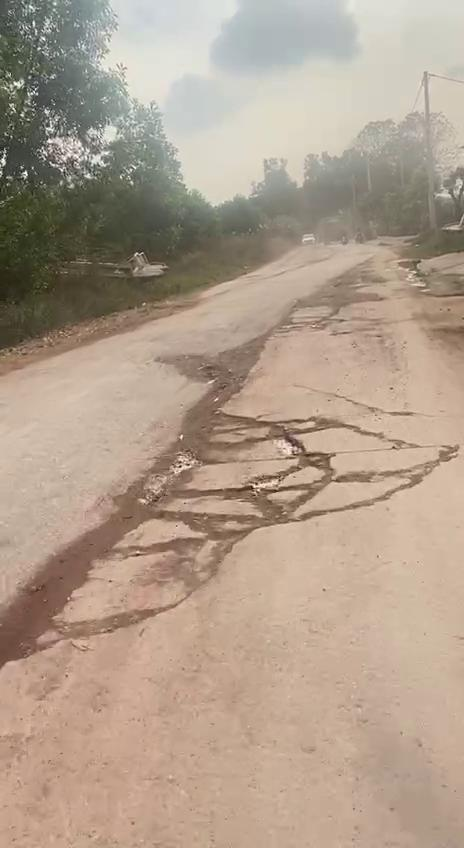pothole: (0, 418, 337, 668)
